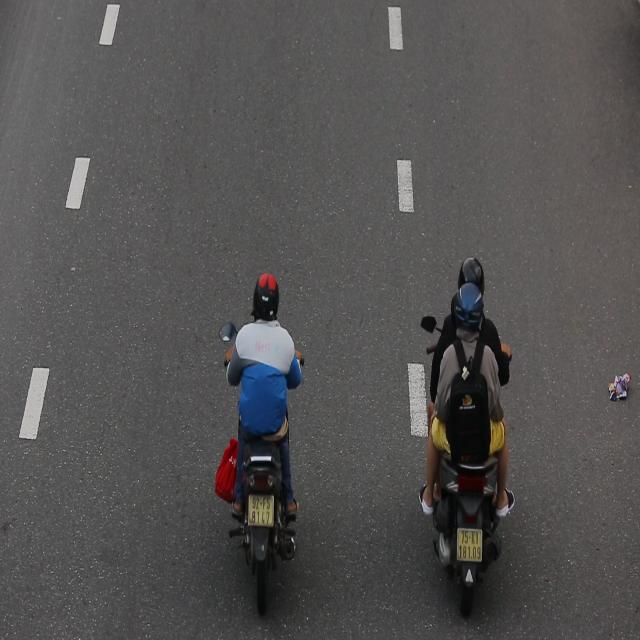motorbike: (200, 240, 310, 626), (413, 233, 518, 625)
